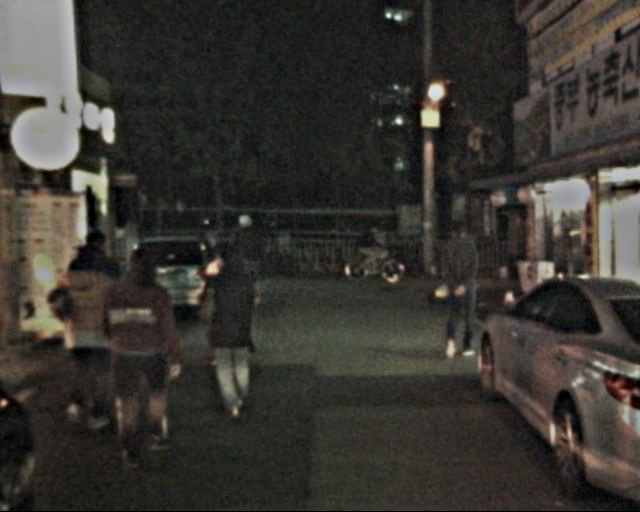person: (100, 245, 188, 463), (55, 243, 128, 429), (195, 244, 266, 419), (64, 226, 133, 380), (431, 222, 488, 360), (225, 215, 270, 310), (356, 222, 385, 278)
